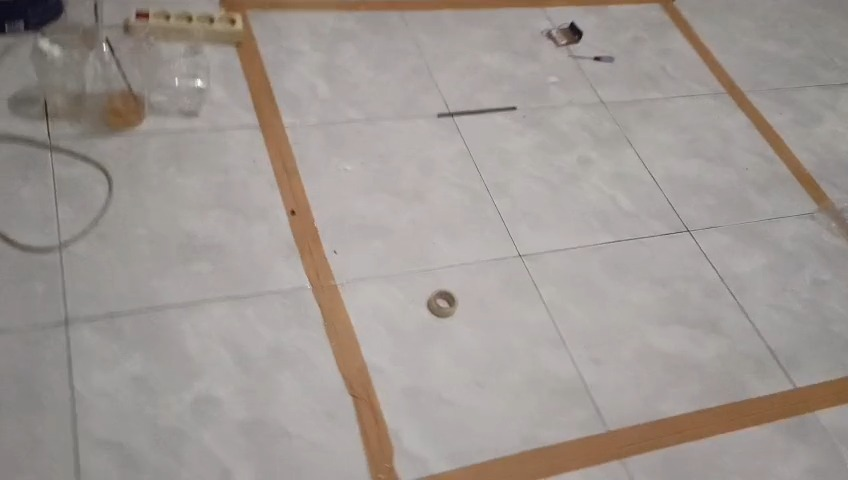floor marking: (222, 0, 847, 227), (237, 22, 397, 479), (427, 376, 847, 478), (685, 429, 685, 429)
